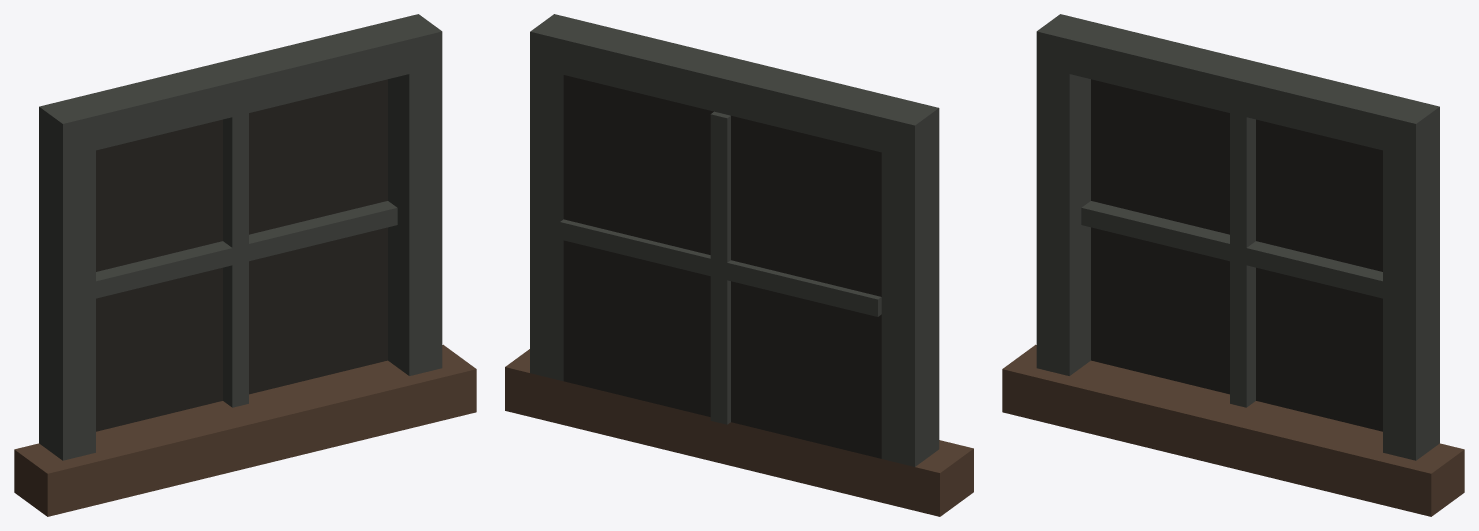
Rendered from window_flush.glb.
The picture shows the model from 3 angles, left to right: view 1: azimuth 30°, elevation 25°; view 2: azimuth 150°, elevation 25°; view 3: azimuth 330°, elevation 25°; orthographic projection.
Parts seen in each view (by area): view 1: window_flush; view 2: window_flush; view 3: window_flush.
Part boxes in pixels (x1=…): window_flush: x1=14, y1=14, x2=476, y2=516; window_flush: x1=505, y1=14, x2=973, y2=516; window_flush: x1=1002, y1=14, x2=1464, y2=516.
Bounding box in the file's own units: 1.04 × 0.88 × 0.155.
